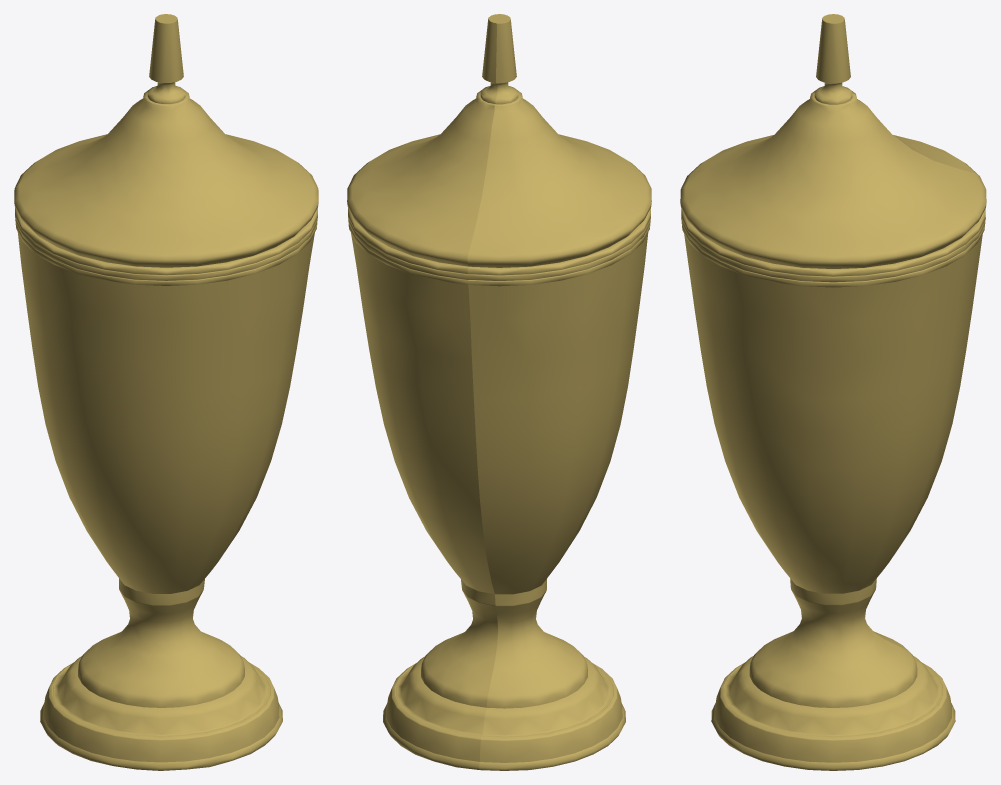
The model's file is trophy_981.glb.
3 views of the same model, side by side, from view 1: azimuth 30°, elevation 25°; view 2: azimuth 150°, elevation 25°; view 3: azimuth 270°, elevation 25° (orthographic).
Visible parts, largest first — view 1: trophy; view 2: trophy; view 3: trophy.
Boxes of the visible parts, x1,y1,x2,y2 form: trophy: (14, 14, 318, 770); trophy: (347, 14, 651, 770); trophy: (680, 14, 986, 770).
Size of the model in its own units: 0.2681 by 0.678 by 0.2669.
1 material, 1 textured.
